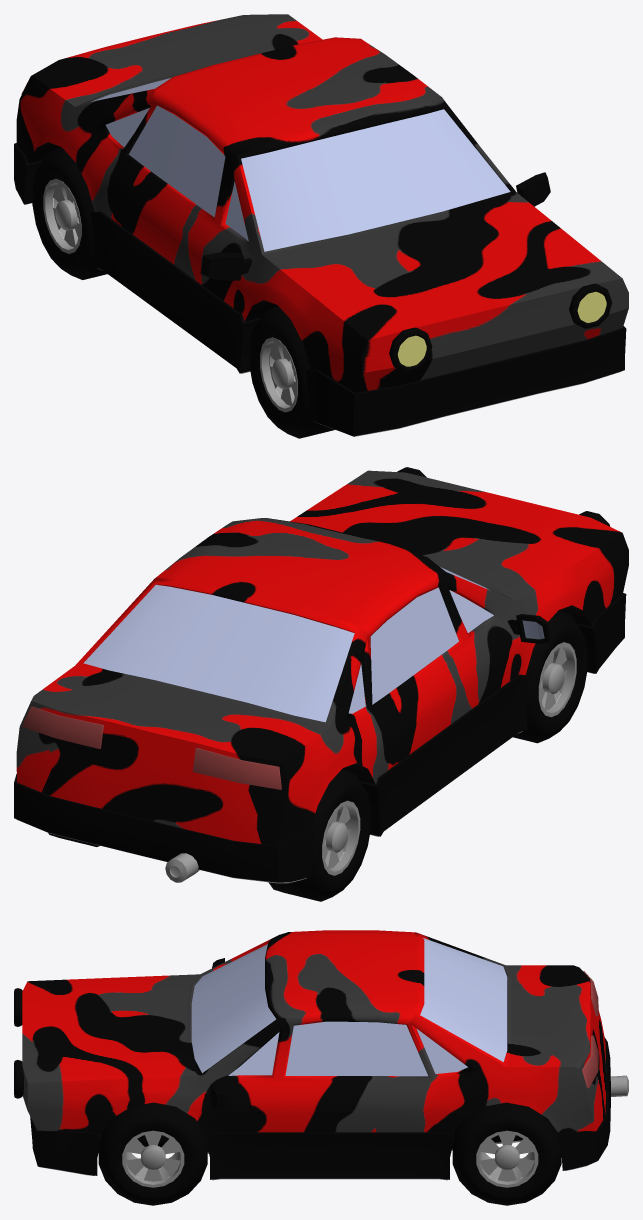
File: Muscle Evolution1 Black ArmyBlackRed LightBlue LightGrey Horn2 Horn5.glb
3 views of the same model, one above another, from view 1: azimuth 30°, elevation 25°; view 2: azimuth 150°, elevation 25°; view 3: azimuth 270°, elevation 25° (orthographic). The views are drawn at different scales.
Visible parts, largest first — view 1: evo1_body4_f1_dupl, evo1_sill0_f1_dupl, evo1_frontGlass_f1_dupl, evo1_glasseBigR_f1_dupl, evo1_tire_rf_f1_dupl, evo1_tire_rf1_f1_dupl, evo1_rim_A_rb_f1_dupl, evo1_rim_A_rf_f1_dupl, evo1_mirorR3_f1_dupl, evo1_blockLightR_f1_dupl, evo1_blockLightL_f1_dupl, evo1_mirorL3_f1_dupl (+4 smaller); view 2: evo1_body4_f1_dupl, evo1_sill0_f1_dupl, evo1_BackGlassGlass_f1_dupl, evo1_glasseBigR_f1_dupl, evo1_tire_rf_f1_dupl, evo1_tire_rf1_f1_dupl, evo1_rim_A_rf_f1_dupl, evo1_rim_A_rb_f1_dupl, evo1_redlightR2_f1_dupl, evo1_redlightL2_f1_dupl, evo1_glassfR_f1_dupl, evo1_pipe1_f1_dupl (+1 smaller); view 3: evo1_body4_f1_dupl, evo1_sill0_f1_dupl, evo1_BackGlassGlass_f1_dupl, evo1_glasseBigL_f1_dupl, evo1_frontGlass_f1_dupl, evo1_tire_lb_f1_dupl, evo1_tire_lf_f1_dupl, evo1_rim_A_lf_f1_dupl, evo1_rim_A_lb_f1_dupl, evo1_glassfL_f1_dupl, evo1_glassbL_f1_dupl, evo1_GroundBody_f1_dupl (+1 smaller).
Part boxes in pixels (<box>): evo1_body4_f1_dupl: <box>16,14,628,392</box>; evo1_sill0_f1_dupl: <box>14,143,626,436</box>; evo1_frontGlass_f1_dupl: <box>241,109,510,251</box>; evo1_glasseBigR_f1_dupl: <box>128,105,225,217</box>; evo1_tire_rf_f1_dupl: <box>32,147,107,279</box>; evo1_tire_rf1_f1_dupl: <box>249,306,334,438</box>; evo1_rim_A_rb_f1_dupl: <box>43,179,81,253</box>; evo1_rim_A_rf_f1_dupl: <box>260,337,297,412</box>; evo1_mirorR3_f1_dupl: <box>200,252,252,280</box>; evo1_blockLightR_f1_dupl: <box>389,327,432,372</box>; evo1_blockLightL_f1_dupl: <box>569,283,612,328</box>; evo1_mirorL3_f1_dupl: <box>516,172,550,206</box>; evo1_body4_f1_dupl: <box>16,470,628,845</box>; evo1_sill0_f1_dupl: <box>14,593,626,882</box>; evo1_BackGlassGlass_f1_dupl: <box>83,584,354,722</box>; evo1_glasseBigR_f1_dupl: <box>370,587,458,704</box>; evo1_tire_rf_f1_dupl: <box>268,769,371,901</box>; evo1_tire_rf1_f1_dupl: <box>513,610,587,743</box>; evo1_rim_A_rf_f1_dupl: <box>538,642,576,717</box>; evo1_rim_A_rb_f1_dupl: <box>322,800,360,875</box>; evo1_redlightR2_f1_dupl: <box>192,748,281,789</box>; evo1_redlightL2_f1_dupl: <box>22,706,103,748</box>; evo1_glassfR_f1_dupl: <box>449,590,493,632</box>; evo1_pipe1_f1_dupl: <box>165,853,199,882</box>; evo1_body4_f1_dupl: <box>22,930,606,1152</box>; evo1_sill0_f1_dupl: <box>30,1037,610,1179</box>; evo1_BackGlassGlass_f1_dupl: <box>420,937,507,1061</box>; evo1_glasseBigL_f1_dupl: <box>285,1021,427,1076</box>; evo1_frontGlass_f1_dupl: <box>191,944,276,1073</box>; evo1_tire_lb_f1_dupl: <box>452,1102,561,1205</box>; evo1_tire_lf_f1_dupl: <box>98,1102,207,1205</box>; evo1_rim_A_lf_f1_dupl: <box>122,1130,184,1187</box>; evo1_rim_A_lb_f1_dupl: <box>476,1130,538,1187</box>; evo1_glassfL_f1_dupl: <box>228,1032,279,1075</box>; evo1_glassbL_f1_dupl: <box>416,1028,467,1073</box>; evo1_GroundBody_f1_dupl: <box>40,1140,594,1180</box>.
Bounding box in the file's own units: 177 × 112 × 331.
Materials: 7 (1 with a texture image).
